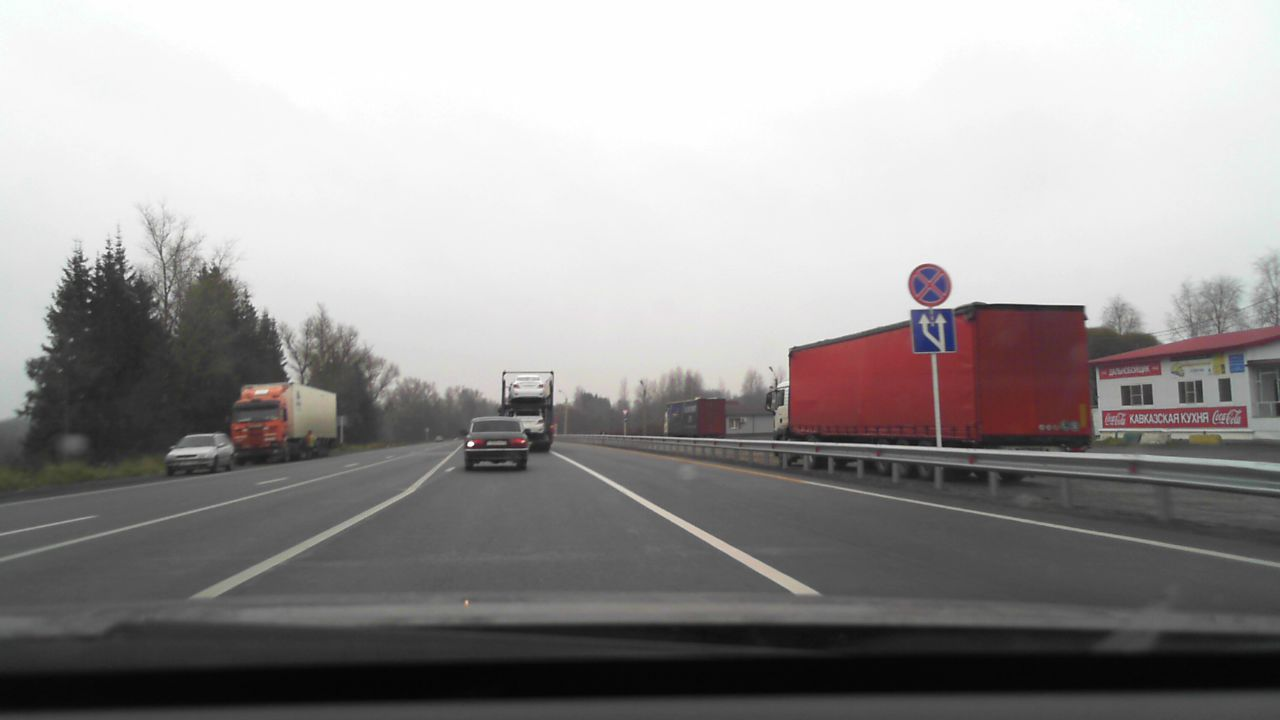No Parking: (908, 262, 952, 307)
